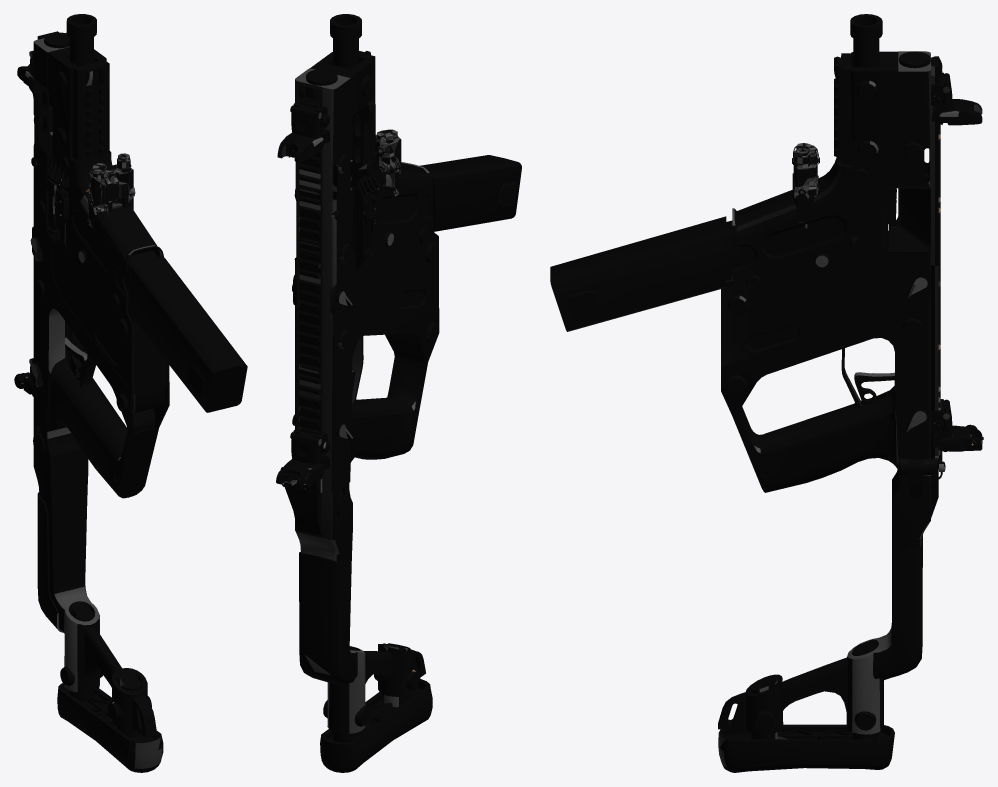
Rendered from KrissVector__Laser_Pistol.fbx.
The picture shows the model from 3 angles, left to right: view 1: azimuth 30°, elevation 25°; view 2: azimuth 150°, elevation 25°; view 3: azimuth 270°, elevation 25°; orthographic projection. The views are drawn at different scales.
Parts seen in each view (by area): view 1: asset_KrissVector.001; view 2: asset_KrissVector.001; view 3: asset_KrissVector.001.
Boxes of the visible parts, <box> form: asset_KrissVector.001: <box>14,14,247,772</box>; asset_KrissVector.001: <box>276,14,521,772</box>; asset_KrissVector.001: <box>550,14,983,772</box>.
Bounding box in the file's own units: 0.0304 × 0.312 × 0.1639.
